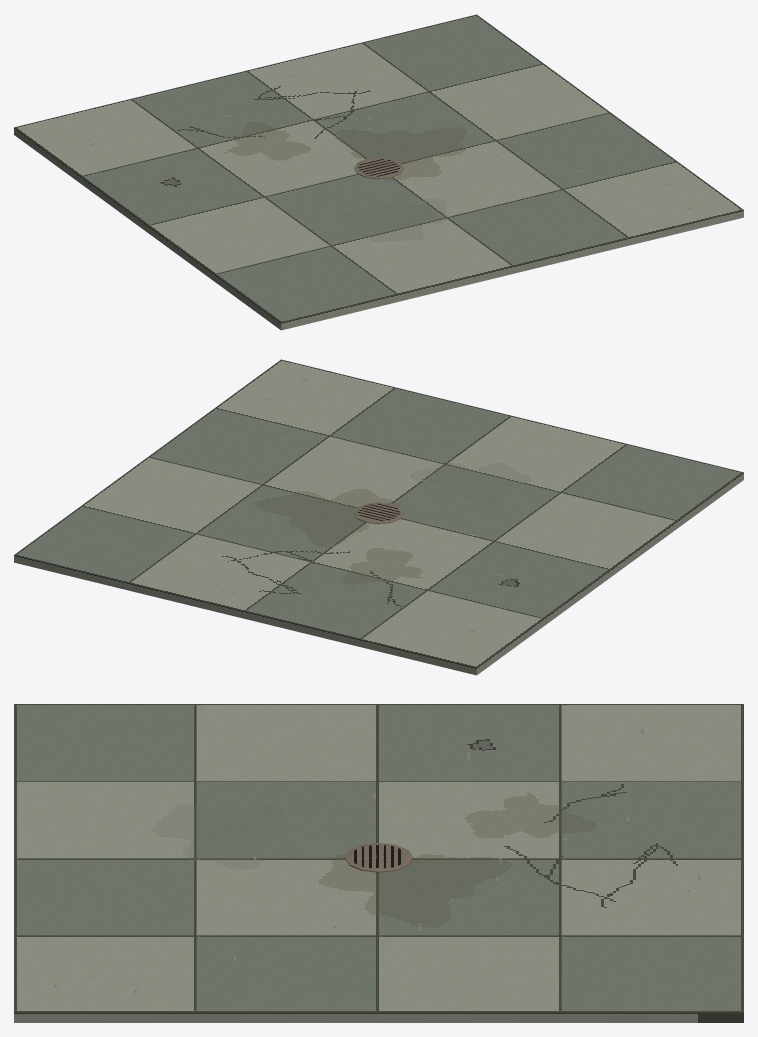
File: floor_3b.glb
3 views of the same model, one above another, from view 1: azimuth 30°, elevation 25°; view 2: azimuth 150°, elevation 25°; view 3: azimuth 270°, elevation 25° (orthographic). The views are drawn at different scales.
Visible parts, largest first — view 1: floor_tiles, floor_edge, floor_drain; view 2: floor_tiles, floor_edge, floor_drain; view 3: floor_tiles, floor_edge, floor_drain.
Part boxes in pixels (box(x1,y1,x2,y2)): floor_tiles: box(14, 14, 743, 322); floor_edge: box(14, 127, 743, 330); floor_drain: box(354, 157, 403, 179); floor_tiles: box(14, 359, 743, 667); floor_edge: box(14, 472, 743, 675); floor_drain: box(354, 502, 403, 524); floor_tiles: box(14, 704, 743, 1012); floor_edge: box(14, 1012, 743, 1022); floor_drain: box(344, 843, 413, 872).
Bounding box in the file's own units: 2 × 0.0356 × 2.
1 material, 1 textured.
